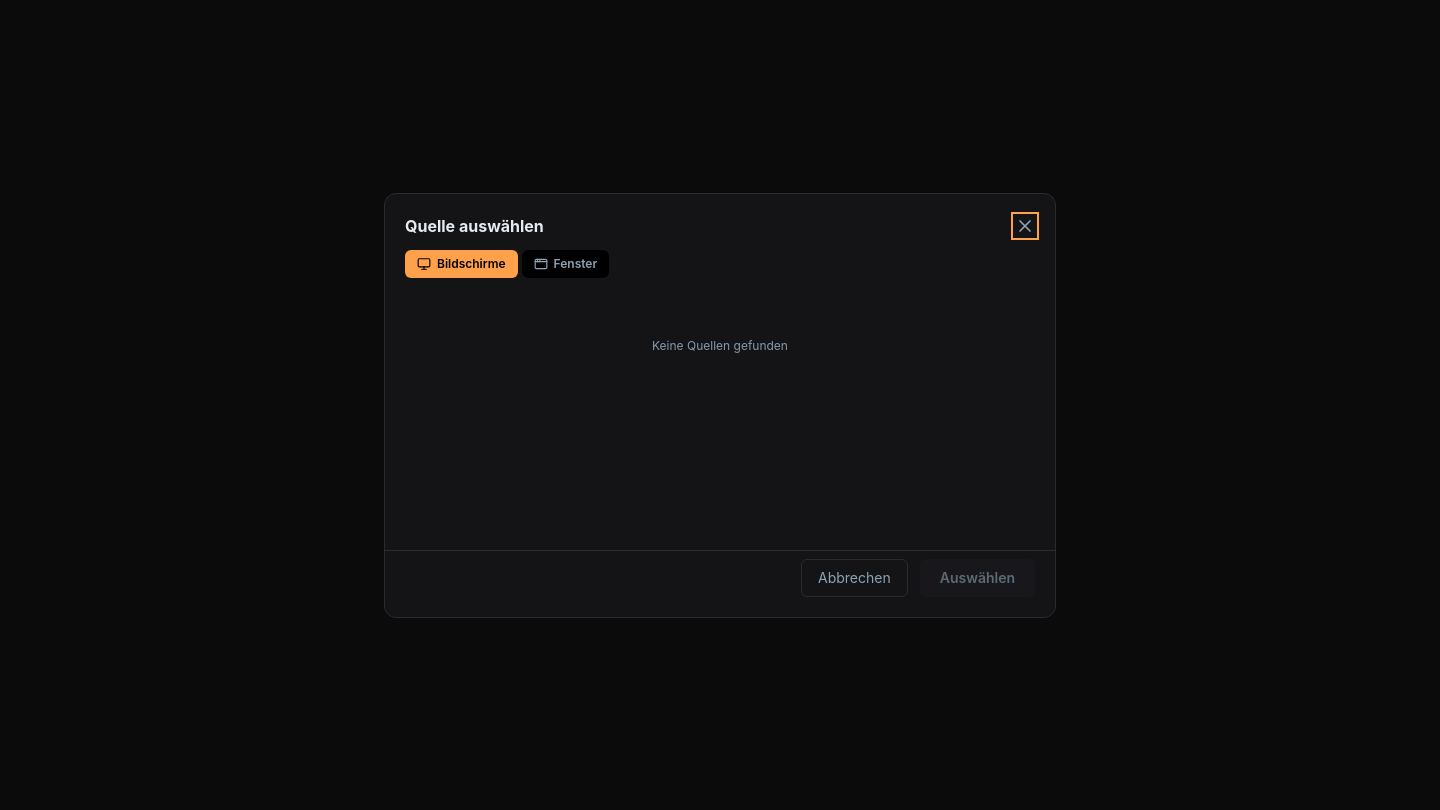
Test: SourcePickerModal › renders app icon for window sources that have one
This screenshot has width=1440, height=810.
Click the button "Fenster": (565, 264) [522,250,609,278]
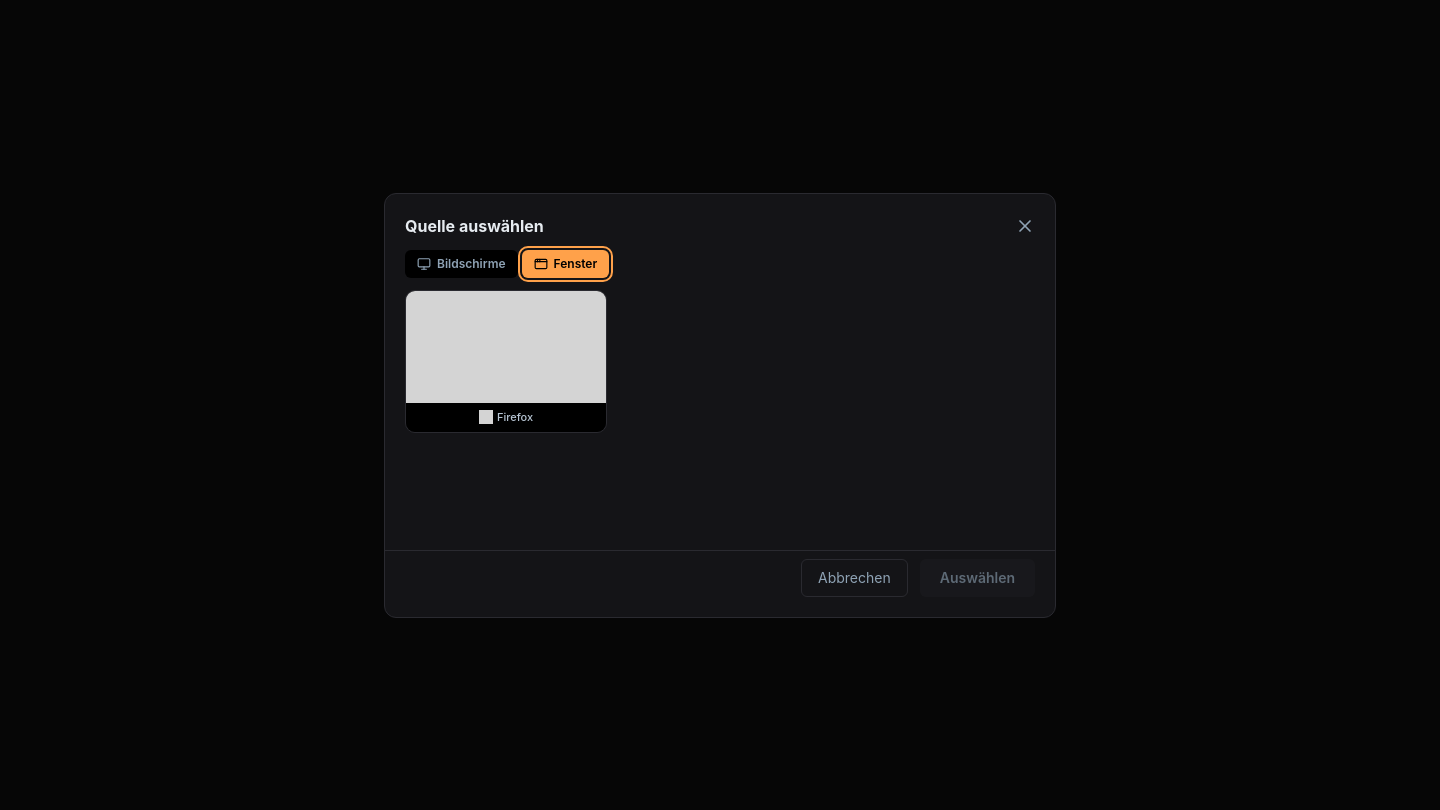
Now the text "Firefox" is shown, box [479,410,533,424]
